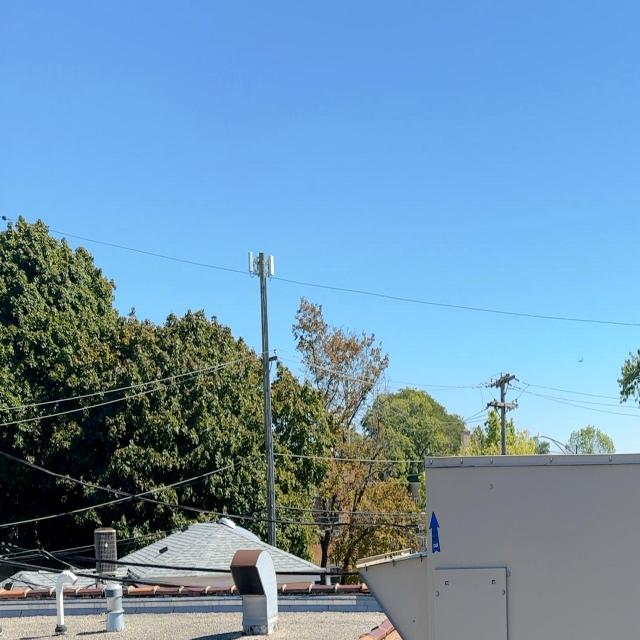GRAVITY-VENT: (100, 575, 130, 638)
RTU: (341, 438, 640, 640)
SPLIT-SYSTEM: (92, 522, 118, 581)
